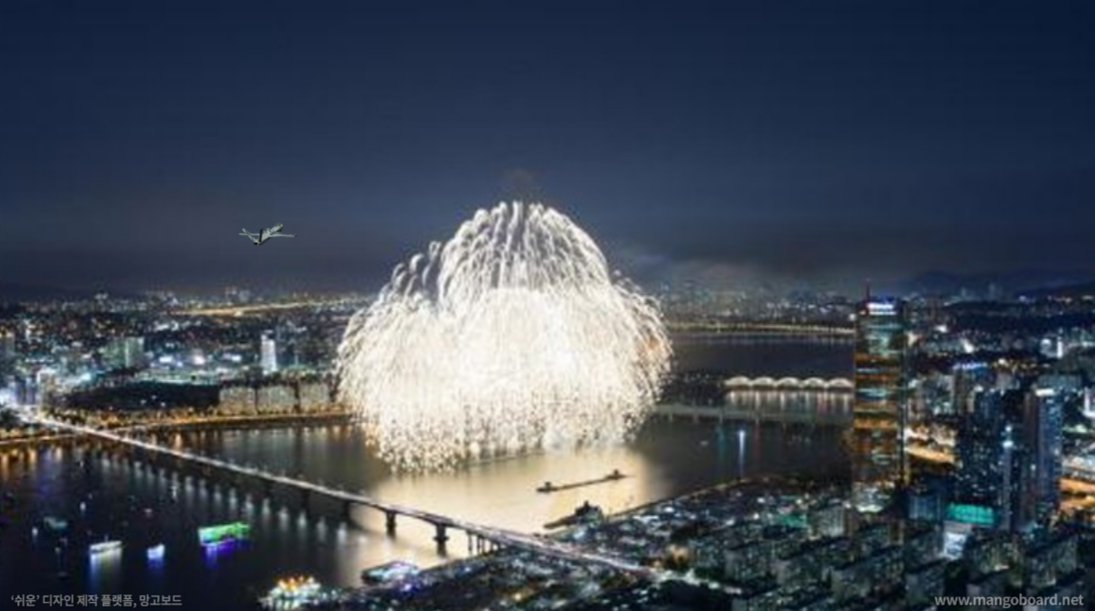military drone: (238, 222, 298, 246)
